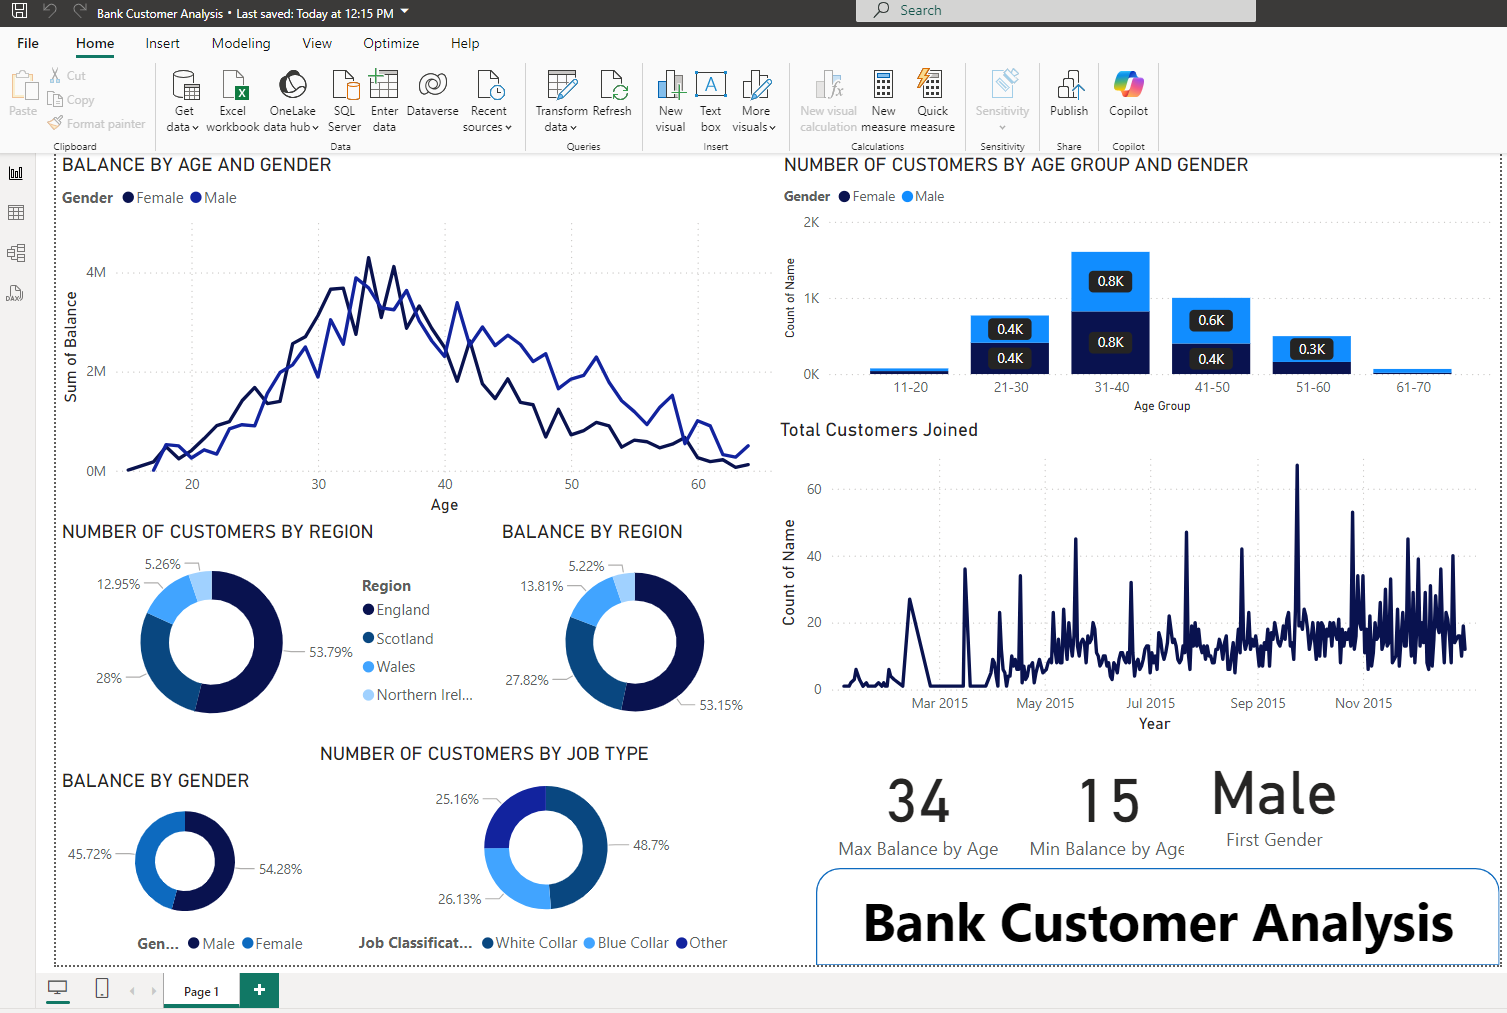

Layout of this report page (visuals, bound fields, positions):
{"tool":"powerbi","page":{"name":"Page 1","canvas":[1280,720],"ordinal":0},"visuals":[{"type":"lineChart","title":"BALANCE BY AGE AND GENDER","fields":{"Y":["Sum(Bank Data Analysis.Balance)"],"Category":["Bank Data Analysis.Age"],"Series":["Bank Data Analysis.Gender"]},"box":[0,0,640,325],"z":0},{"type":"columnChart","title":"NUMBER OF CUSTOMERS BY AGE GROUP AND GENDER","fields":{"Category":["Bank Data Analysis.Age Group"],"Series":["Bank Data Analysis.Gender"],"Y":["CountNonNull(Bank Data Analysis.Name)"]},"box":[640,0,640,235],"z":1000},{"type":"donutChart","title":"NUMBER OF CUSTOMERS BY REGION","fields":{"Category":["Bank Data Analysis.Region"],"Y":["CountNonNull(Bank Data Analysis.Name)"]},"box":[0,325,390,197.5],"z":2000},{"type":"donutChart","title":"BALANCE BY REGION","fields":{"Y":["Sum(Bank Data Analysis.Balance)"],"Category":["Bank Data Analysis.Region"]},"box":[390,325,246.2,197.5],"z":3000},{"type":"donutChart","title":"NUMBER OF CUSTOMERS BY JOB TYPE","fields":{"Category":["Bank Data Analysis.Job Classification"],"Y":["CountNonNull(Bank Data Analysis.Name)"]},"box":[228.8,522.5,411.2,197.5],"z":4000},{"type":"donutChart","title":"BALANCE BY GENDER","fields":{"Y":["Sum(Bank Data Analysis.Balance)"],"Category":["Bank Data Analysis.Gender"]},"box":[0,546.2,228.8,173.8],"z":5000},{"type":"lineChart","title":"Total Customers Joined","fields":{"Category":["Bank Data Analysis.Date Joined.Variation.Date Hierarchy.Year","Bank Data Analysis.Date Joined.Variation.Date Hierarchy.Quarter","Bank Data Analysis.Date Joined.Variation.Date Hierarchy.Month","Bank Data Analysis.Date Joined.Variation.Date Hierarchy.Day"],"Y":["CountNonNull(Bank Data Analysis.Name)"]},"box":[636.2,235,643.8,283.8],"z":6000},{"type":"card","fields":{"Values":["Max(Bank Data Analysis.Age)"]},"box":[673.8,522.5,181.2,111.2],"z":7000},{"type":"card","fields":{"Values":["Sum(Bank Data Analysis.Age)"]},"box":[855,522.5,156.2,111.2],"z":8000},{"type":"card","fields":{"Values":["Min(Bank Data Analysis.Gender)"]},"box":[1000,507.5,160,126.2],"z":9000},{"type":"shape","box":[673.8,633.8,606.2,86.2],"z":10000}]}

Visuals, with their boxes on the page's 1280x720 design canvas (x1, y1, x2, y2). These are canvas units, not pixel positions in the 1507x1013 screenshot, which may show the page scaled, cropped or inside an application window:
"BALANCE BY AGE AND GENDER" lineChart: box=[0, 0, 640, 325]
"NUMBER OF CUSTOMERS BY AGE GROUP AND GENDER" columnChart: box=[640, 0, 1280, 235]
"NUMBER OF CUSTOMERS BY REGION" donutChart: box=[0, 325, 390, 522]
"BALANCE BY REGION" donutChart: box=[390, 325, 636, 522]
"NUMBER OF CUSTOMERS BY JOB TYPE" donutChart: box=[229, 522, 640, 720]
"BALANCE BY GENDER" donutChart: box=[0, 546, 229, 720]
"Total Customers Joined" lineChart: box=[636, 235, 1280, 519]
card - Max(Bank Data Analysis.Age): box=[674, 522, 855, 634]
card - Sum(Bank Data Analysis.Age): box=[855, 522, 1011, 634]
card - Min(Bank Data Analysis.Gender): box=[1000, 508, 1160, 634]
shape: box=[674, 634, 1280, 720]
